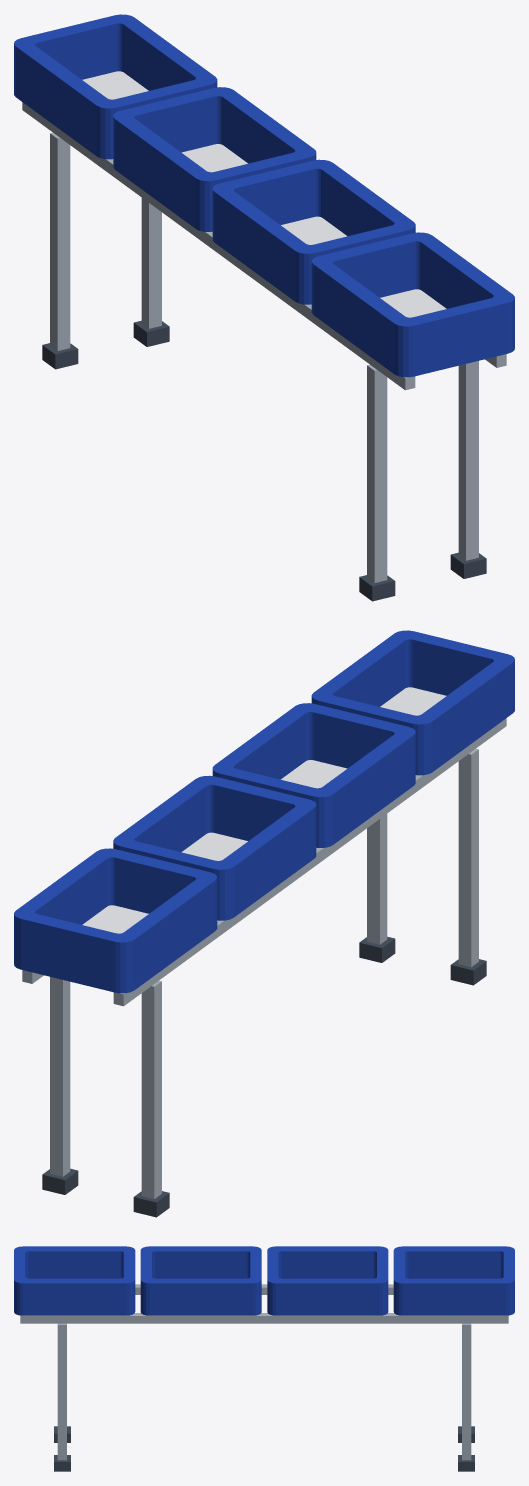
The model's file is SM_MPR_CollectionCellsCAD.fbx.
3 renders of one model, top to bottom at view 1: azimuth 30°, elevation 25°; view 2: azimuth 150°, elevation 25°; view 3: azimuth 270°, elevation 25°, orthographic. The views are drawn at different scales.
Visible parts, largest first — view 1: SM_MPR_CollectionCellsCAD; view 2: SM_MPR_CollectionCellsCAD; view 3: SM_MPR_CollectionCellsCAD.
Boxes of the visible parts, bbox=[...] form: SM_MPR_CollectionCellsCAD: bbox=[14, 14, 514, 601]; SM_MPR_CollectionCellsCAD: bbox=[14, 630, 514, 1217]; SM_MPR_CollectionCellsCAD: bbox=[14, 1246, 514, 1471].
Bounding box in the file's own units: 41.5 × 238 × 99.
